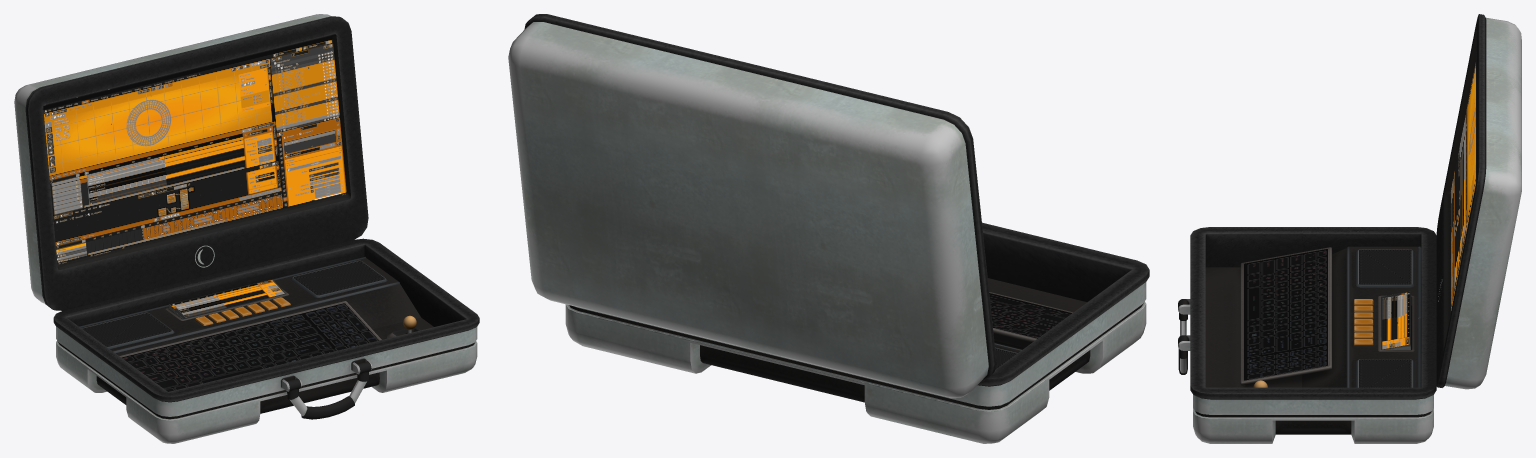
File: computer.glb
3 views of the same model, side by side, from view 1: azimuth 30°, elevation 25°; view 2: azimuth 150°, elevation 25°; view 3: azimuth 270°, elevation 25° (orthographic). The views are drawn at different scales.
Visible parts, largest first — view 1: Plane, screen_2; view 2: Plane; view 3: Plane, screen_2.
Part boxes in pixels (x1,y1,x2,y2): Plane: (14,14,479,443); screen_2: (171,280,284,318); Plane: (508,14,1149,443); Plane: (1178,14,1521,443); screen_2: (1382,292,1409,349).
Bounding box in the file's own units: 3.28 × 2.53 × 2.86.
3 materials, 3 textured.
